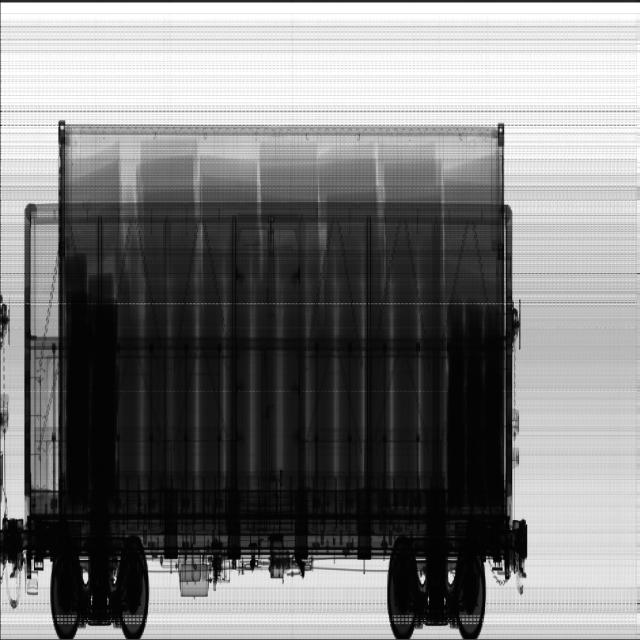clothes: (65, 261, 115, 483)
fabrics: (65, 146, 497, 478)
